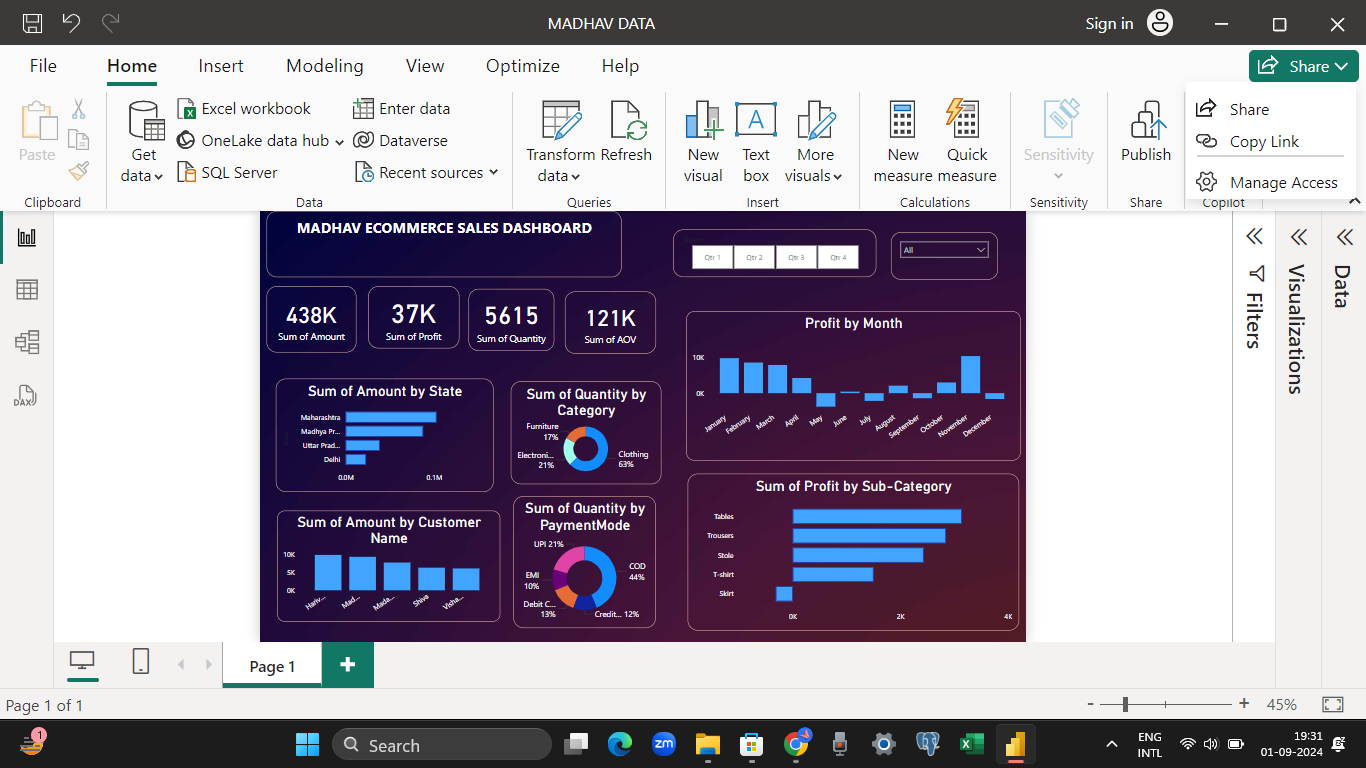

The dashboard page shown, as its layout file describes it:
{"tool":"powerbi","page":{"name":"Page 1","canvas":[1280,720],"ordinal":0},"visuals":[{"type":"columnChart","title":"Profit by Month","fields":{"Category":["Orders.Order Date.Variation.Date Hierarchy.Month"],"Y":["Details.Profit"]},"box":[711.4,167.6,558,249.2],"z":0},{"type":"textbox","box":[11,0,593.3,110.3],"z":1000},{"type":"barChart","fields":{"Category":["Details.Sub-Category"],"Y":["Details.Profit"]},"box":[713.7,439.5,553.6,262.5],"z":2000},{"type":"donutChart","fields":{"Y":["Details.Quantity"],"Category":["Details.Category"]},"box":[419,284.1,251.4,172],"z":3000},{"type":"donutChart","fields":{"Y":["Details.Quantity"],"Series":["Details.PaymentMode"]},"box":[422.8,477.1,238.2,220.6],"z":4000},{"type":"card","fields":{"Values":["Details.Quantity"]},"box":[348.5,130.1,143.4,103.7],"z":5000},{"type":"card","fields":{"Values":["Details.Amount"]},"box":[11,125.7,150,110.3],"z":6000},{"type":"card","fields":{"Values":["Details.Profit"]},"box":[180.9,125.7,152.2,103.7],"z":7000},{"type":"card","fields":{"Values":["Details.AOV"]},"box":[509.5,134.5,152.2,103.7],"z":8000},{"type":"barChart","fields":{"Category":["Orders.State"],"Y":["Details.Amount"]},"box":[27.1,279.7,363.9,189.7],"z":9000},{"type":"columnChart","title":"Sum of Amount by Customer Name","fields":{"Category":["Orders.CustomerName"],"Y":["Details.Amount"]},"box":[29.5,501,372.7,185.3],"z":10000},{"type":"slicer","fields":{"Values":["Orders.Order Date.Variation.Date Hierarchy.Quarter"]},"box":[690.3,30.9,339.7,79.4],"z":11000},{"type":"slicer","fields":{"Values":["Orders.City"]},"box":[1054.2,35.3,178.6,79.4],"z":11001}]}

Visuals, with their boxes on the page's 1280x720 design canvas (x1, y1, x2, y2). These are canvas units, not pixel positions in the 1366x768 screenshot, which may show the page scaled, cropped or inside an application window:
"Profit by Month" columnChart: left=711, top=168, right=1269, bottom=417
textbox: left=11, top=0, right=604, bottom=110
barChart - Details.Sub-Category x Details.Profit: left=714, top=440, right=1267, bottom=702
donutChart - Details.Quantity x Details.Category: left=419, top=284, right=670, bottom=456
donutChart - Details.Quantity x Details.PaymentMode: left=423, top=477, right=661, bottom=698
card - Details.Quantity: left=348, top=130, right=492, bottom=234
card - Details.Amount: left=11, top=126, right=161, bottom=236
card - Details.Profit: left=181, top=126, right=333, bottom=229
card - Details.AOV: left=510, top=134, right=662, bottom=238
barChart - Orders.State x Details.Amount: left=27, top=280, right=391, bottom=469
"Sum of Amount by Customer Name" columnChart: left=30, top=501, right=402, bottom=686
slicer - Orders.Order Date.Variation.Date Hierarchy.Quarter: left=690, top=31, right=1030, bottom=110
slicer - Orders.City: left=1054, top=35, right=1233, bottom=115
